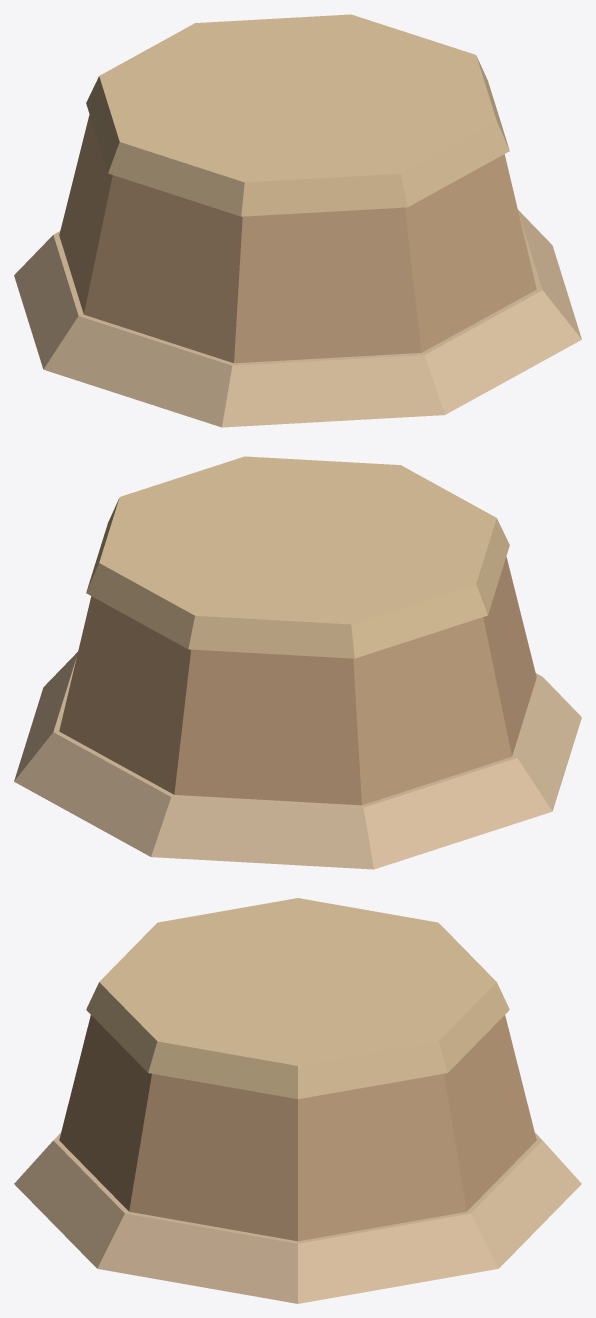
File: mesa.glb
3 renders of one model, top to bottom at view 1: azimuth 30°, elevation 25°; view 2: azimuth 150°, elevation 25°; view 3: azimuth 270°, elevation 25°, orthographic. The views are drawn at different scales.
Visible parts, largest first — view 1: Butte, Caprock, Talus; view 2: Butte, Caprock, Talus; view 3: Butte, Caprock, Talus.
Boxes of the visible parts, <box> form: Butte: <box>59,114,536,363</box>; Caprock: <box>86,14,509,216</box>; Talus: <box>14,210,581,427</box>; Butte: <box>59,556,536,805</box>; Caprock: <box>86,456,509,658</box>; Talus: <box>14,652,581,869</box>; Butte: <box>59,1015,536,1241</box>; Caprock: <box>86,898,509,1099</box>; Talus: <box>14,1133,581,1303</box>.
Bounding box in the file's own units: 13 × 5.1 × 13.
